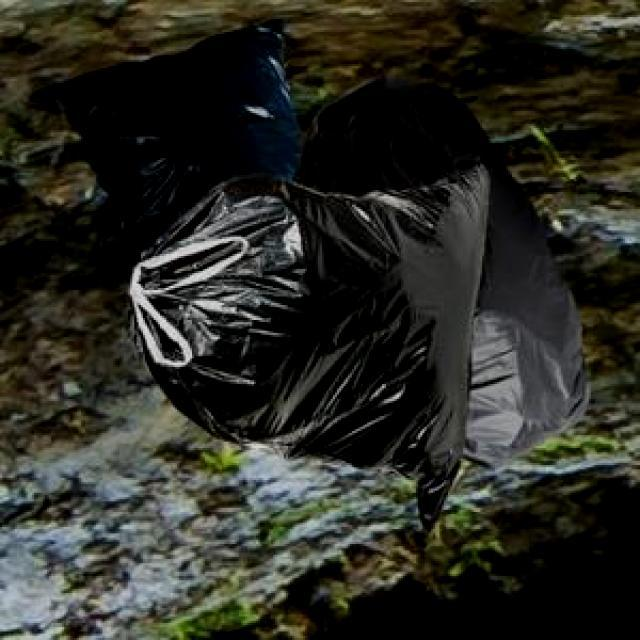Trashbag: (124, 135, 504, 543)
